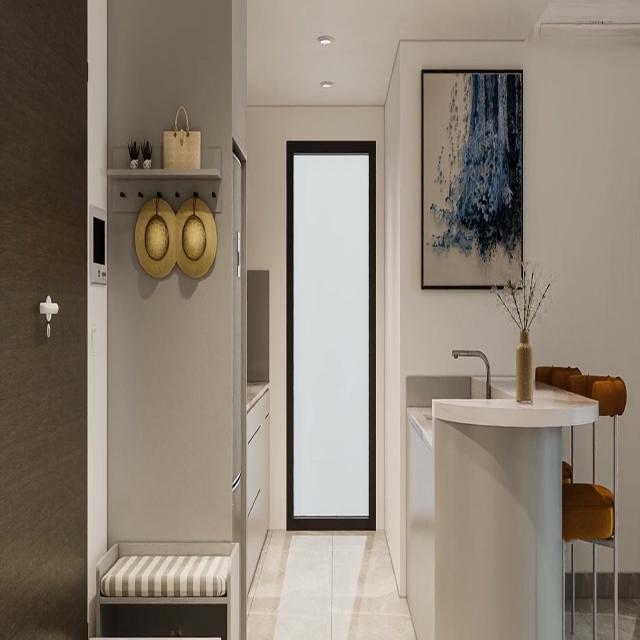door: (286, 140, 376, 530)
obstacle: (431, 378, 599, 638), (246, 385, 270, 599)
